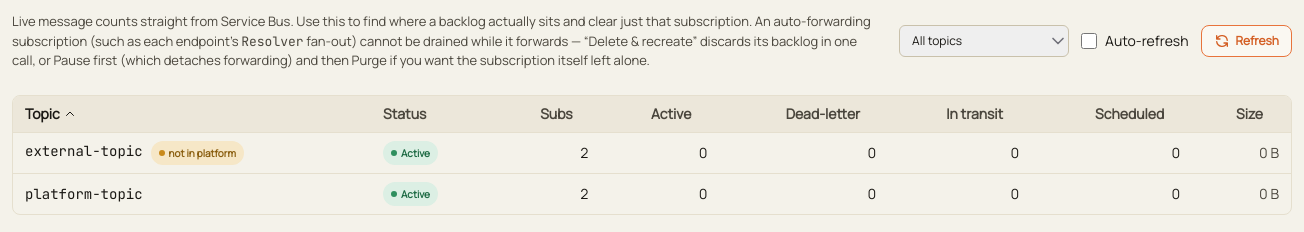
Test: SubscriptionManager › filters topics by platform membership
Check: the button "platform-topic" is shown, box top-left (25, 184), bottom-right (143, 204)
Check: the button "external-topic" is shown, box top-left (25, 140), bottom-right (143, 160)
Select "In platform" in the dropdown named "Filter topics by platform membership": (984, 41) top-left (899, 25), bottom-right (1069, 57)
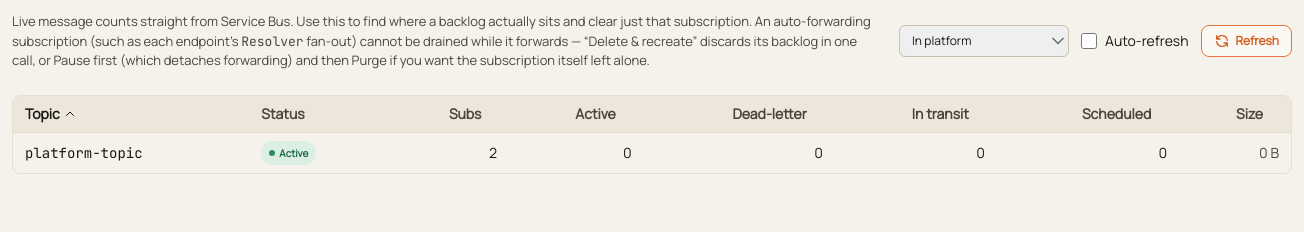
Check: the button "platform-topic" is shown, box top-left (25, 142), bottom-right (143, 162)
Check: the button "external-topic" is gone
Select "Not in platform" in the dropdown named "Filter topics by platform membership": (984, 41) top-left (899, 25), bottom-right (1069, 57)
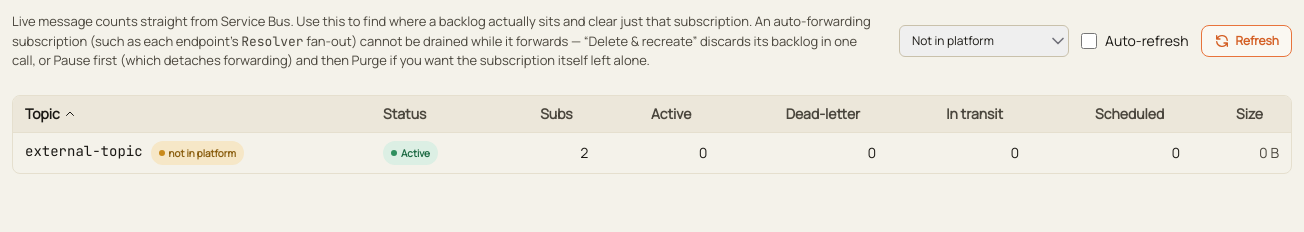
Check: the button "platform-topic" is gone
Check: the button "external-topic" is shown, box top-left (25, 140), bottom-right (143, 160)
Select "All topics" in the dropdown named "Filter topics by platform membership": (984, 41) top-left (899, 25), bottom-right (1069, 57)
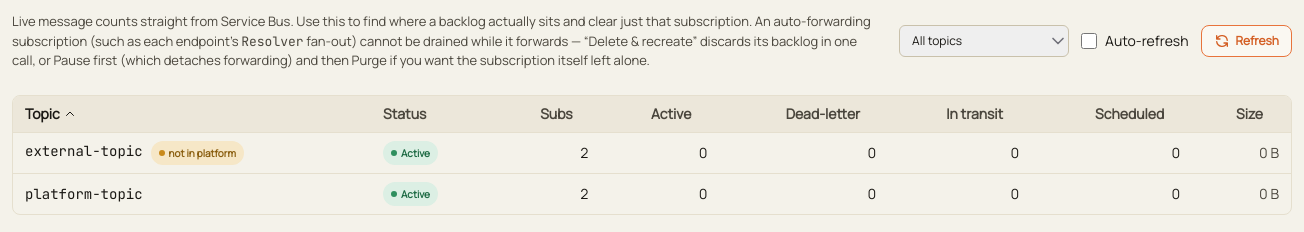
Check: the button "external-topic" is shown, box top-left (25, 140), bottom-right (143, 160)
Check: the button "platform-topic" is shown, box top-left (25, 184), bottom-right (143, 204)
